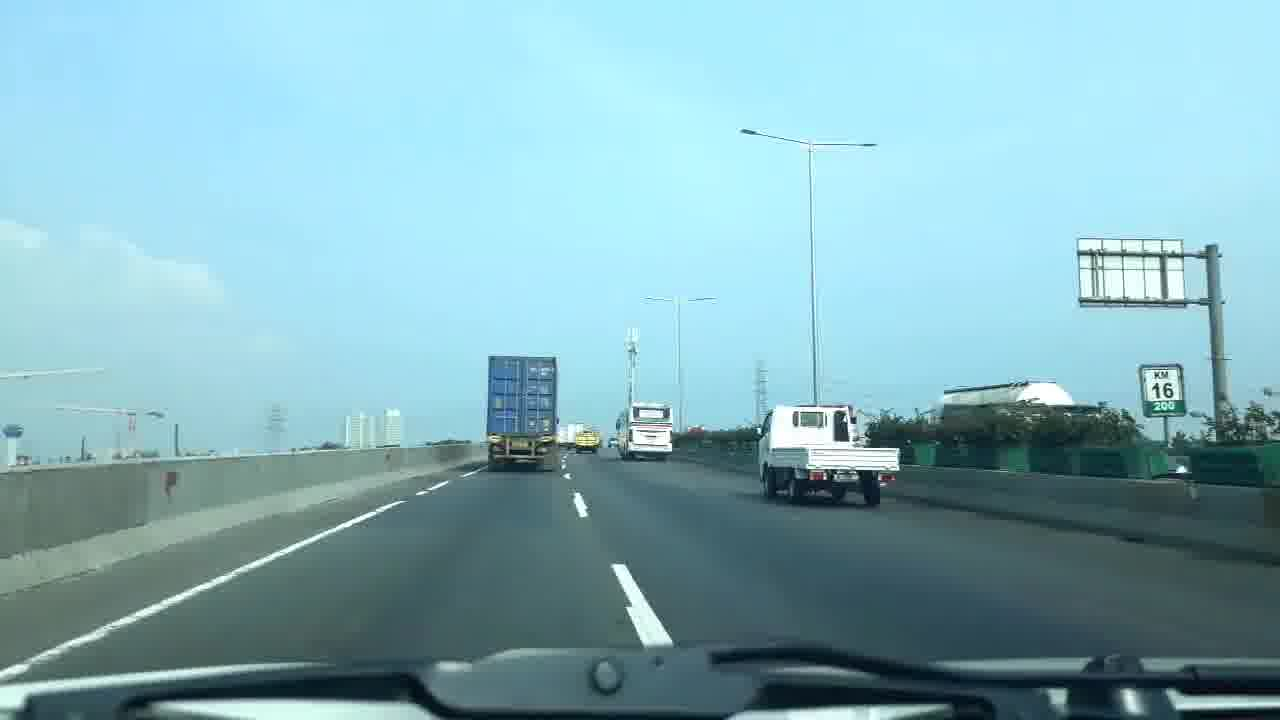plate_positive: (832, 474, 859, 482), (511, 441, 528, 448)
